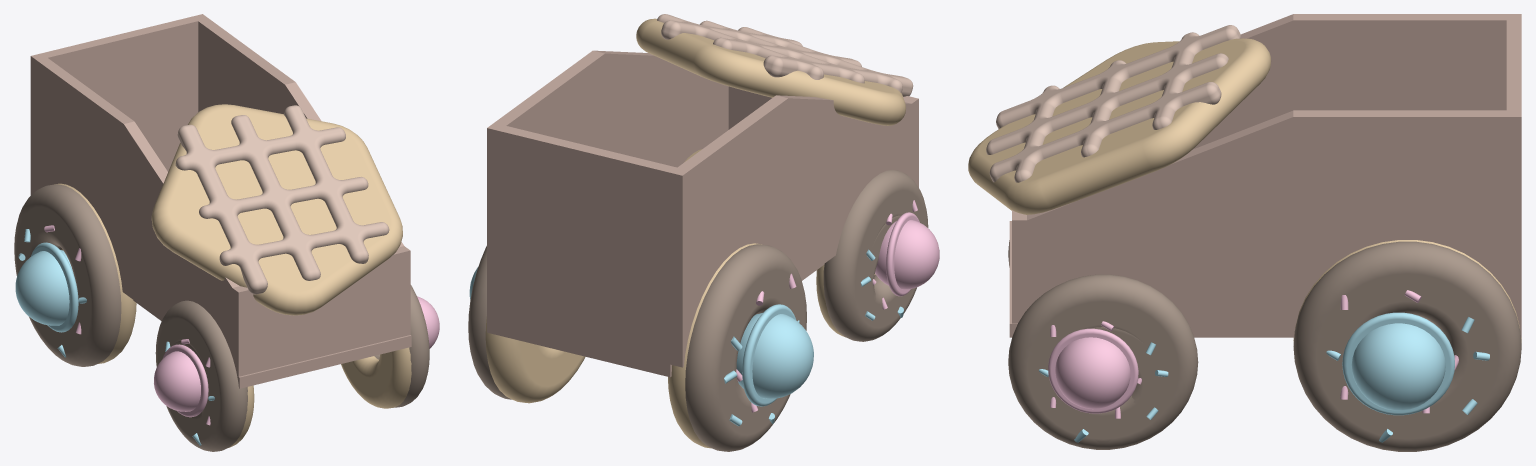
3 views of the same model, side by side, from view 1: azimuth 30°, elevation 25°; view 2: azimuth 150°, elevation 25°; view 3: azimuth 270°, elevation 25° (orthographic). The views are drawn at different scales.
Parts seen in each view (by area): view 1: キャンディー2; view 2: キャンディー2; view 3: キャンディー2.
Boxes of the visible parts, x1,y1,x2,y2 form: キャンディー2: [14, 14, 439, 451]; キャンディー2: [468, 14, 939, 451]; キャンディー2: [968, 14, 1521, 451].
Size of the model in its own units: 27.19 by 24.81 by 36.37.
